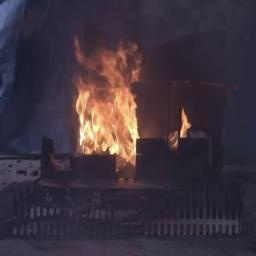fire: (61, 28, 144, 168)
